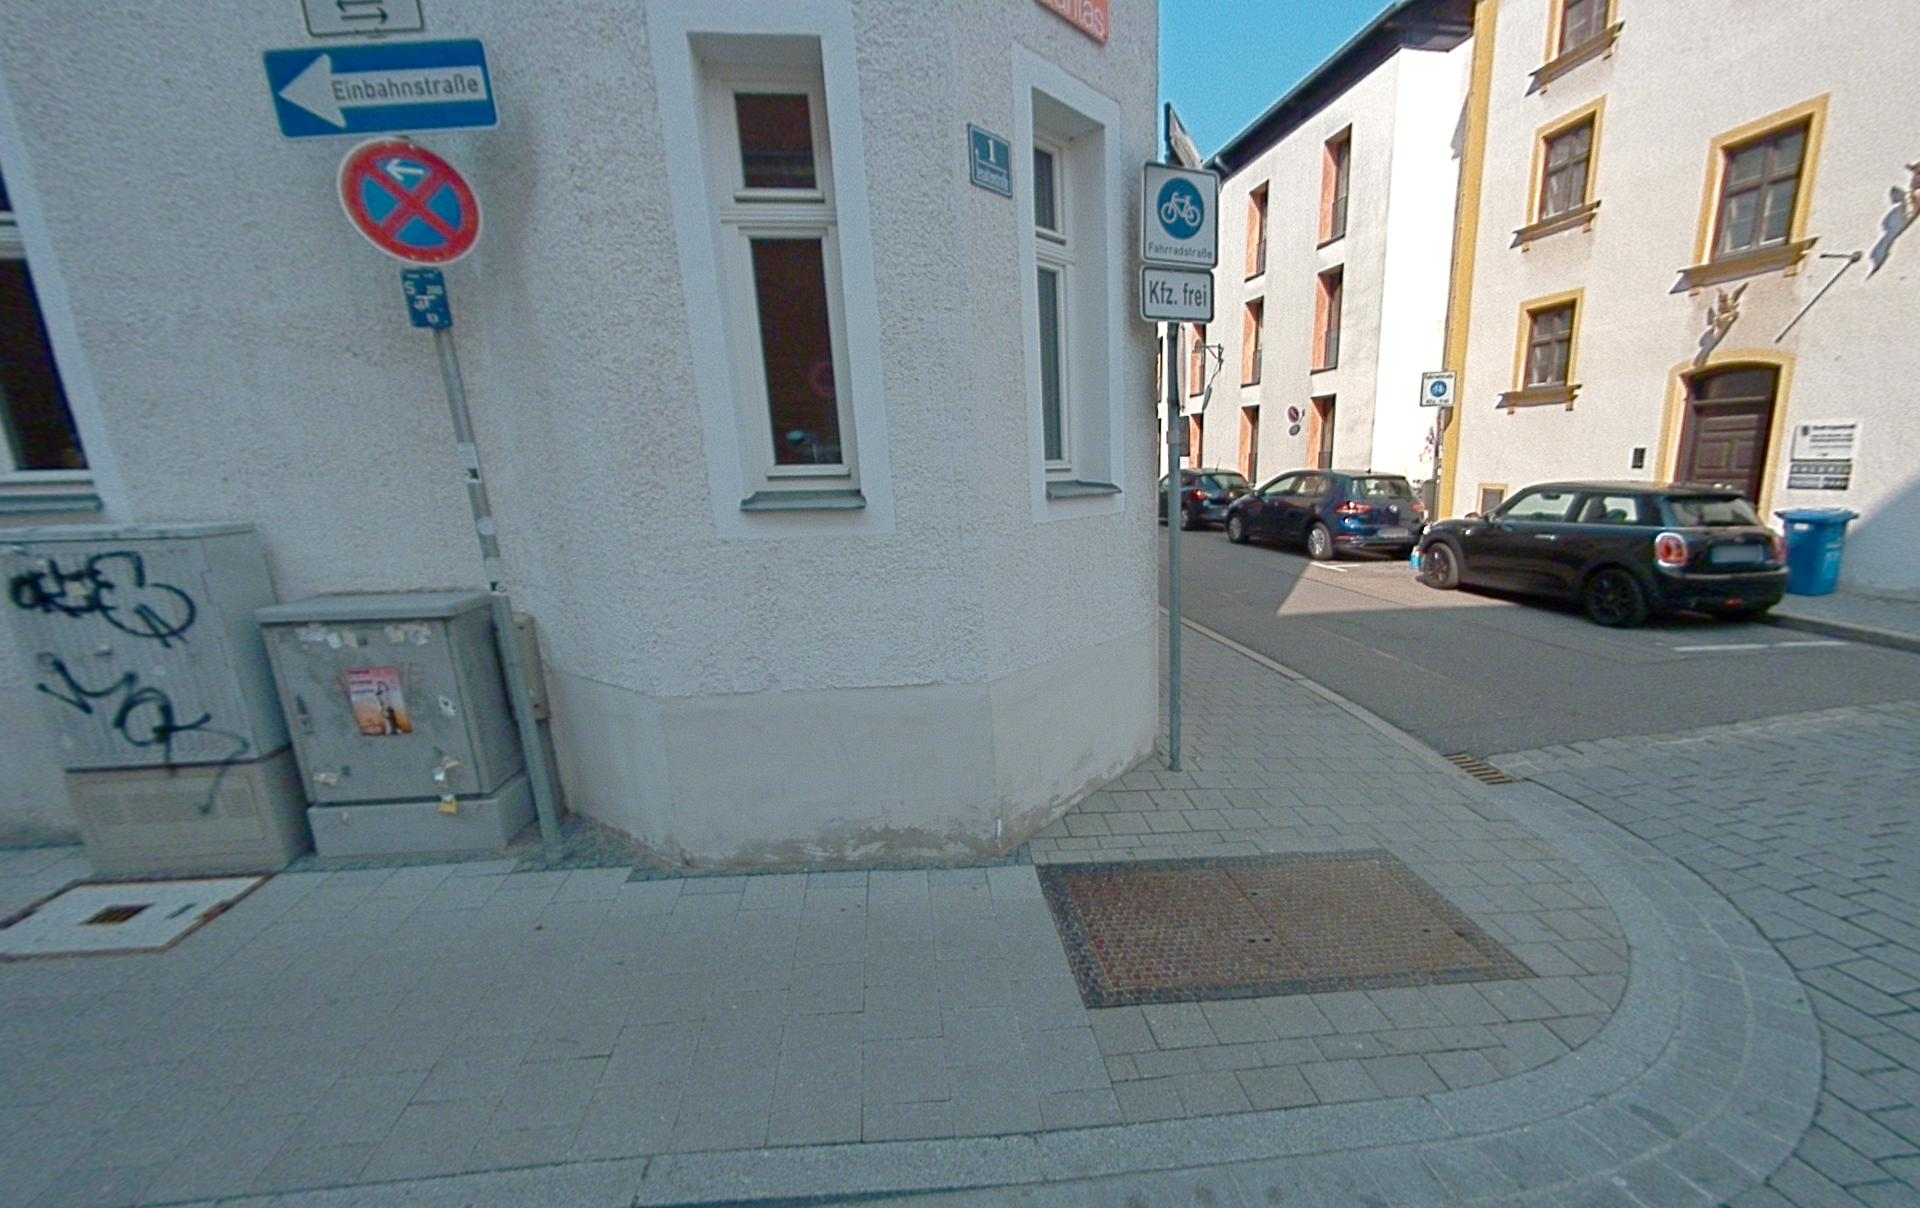car: (1411, 479, 1791, 628), (1226, 469, 1426, 561), (1158, 468, 1252, 530)
traffic sign: (262, 36, 501, 139), (1141, 161, 1219, 267), (1139, 266, 1215, 323)
